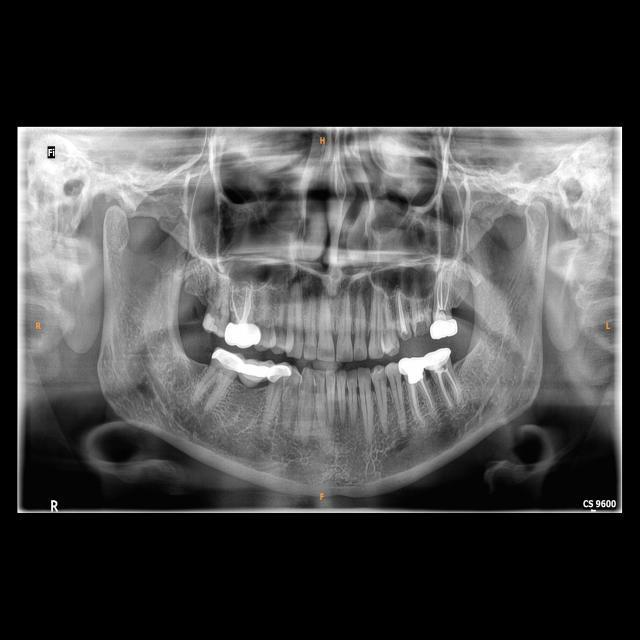dentin-curugu: (413, 316, 432, 338)
kanal-tedavisi: (434, 370, 464, 408), (406, 382, 435, 418), (229, 283, 255, 320), (393, 292, 410, 331), (435, 280, 451, 316)
kaplama: (224, 321, 262, 347), (210, 348, 242, 376), (426, 344, 455, 372), (399, 357, 425, 383), (268, 360, 292, 386), (430, 317, 459, 338)
kirik: (398, 327, 413, 346)
kopru: (235, 358, 279, 389)
